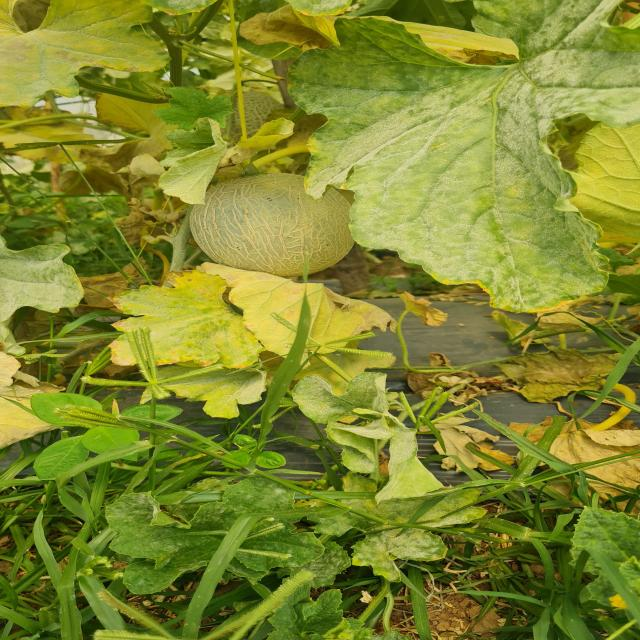melon: (189, 172, 353, 276)
